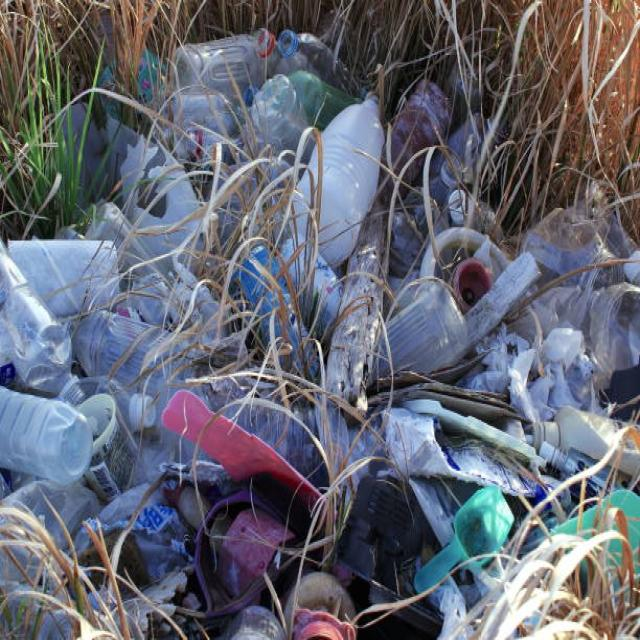plastic: (23, 240, 625, 498), (158, 64, 532, 258)
